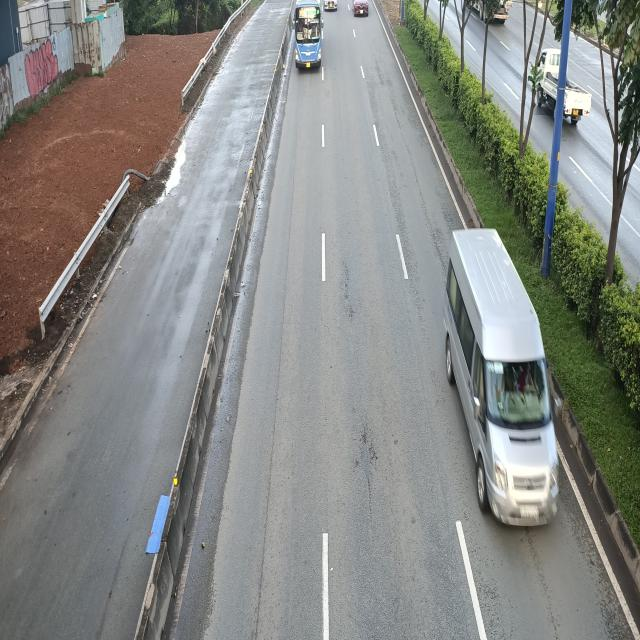coach: (290, 2, 322, 72)
van: (448, 231, 558, 530)
